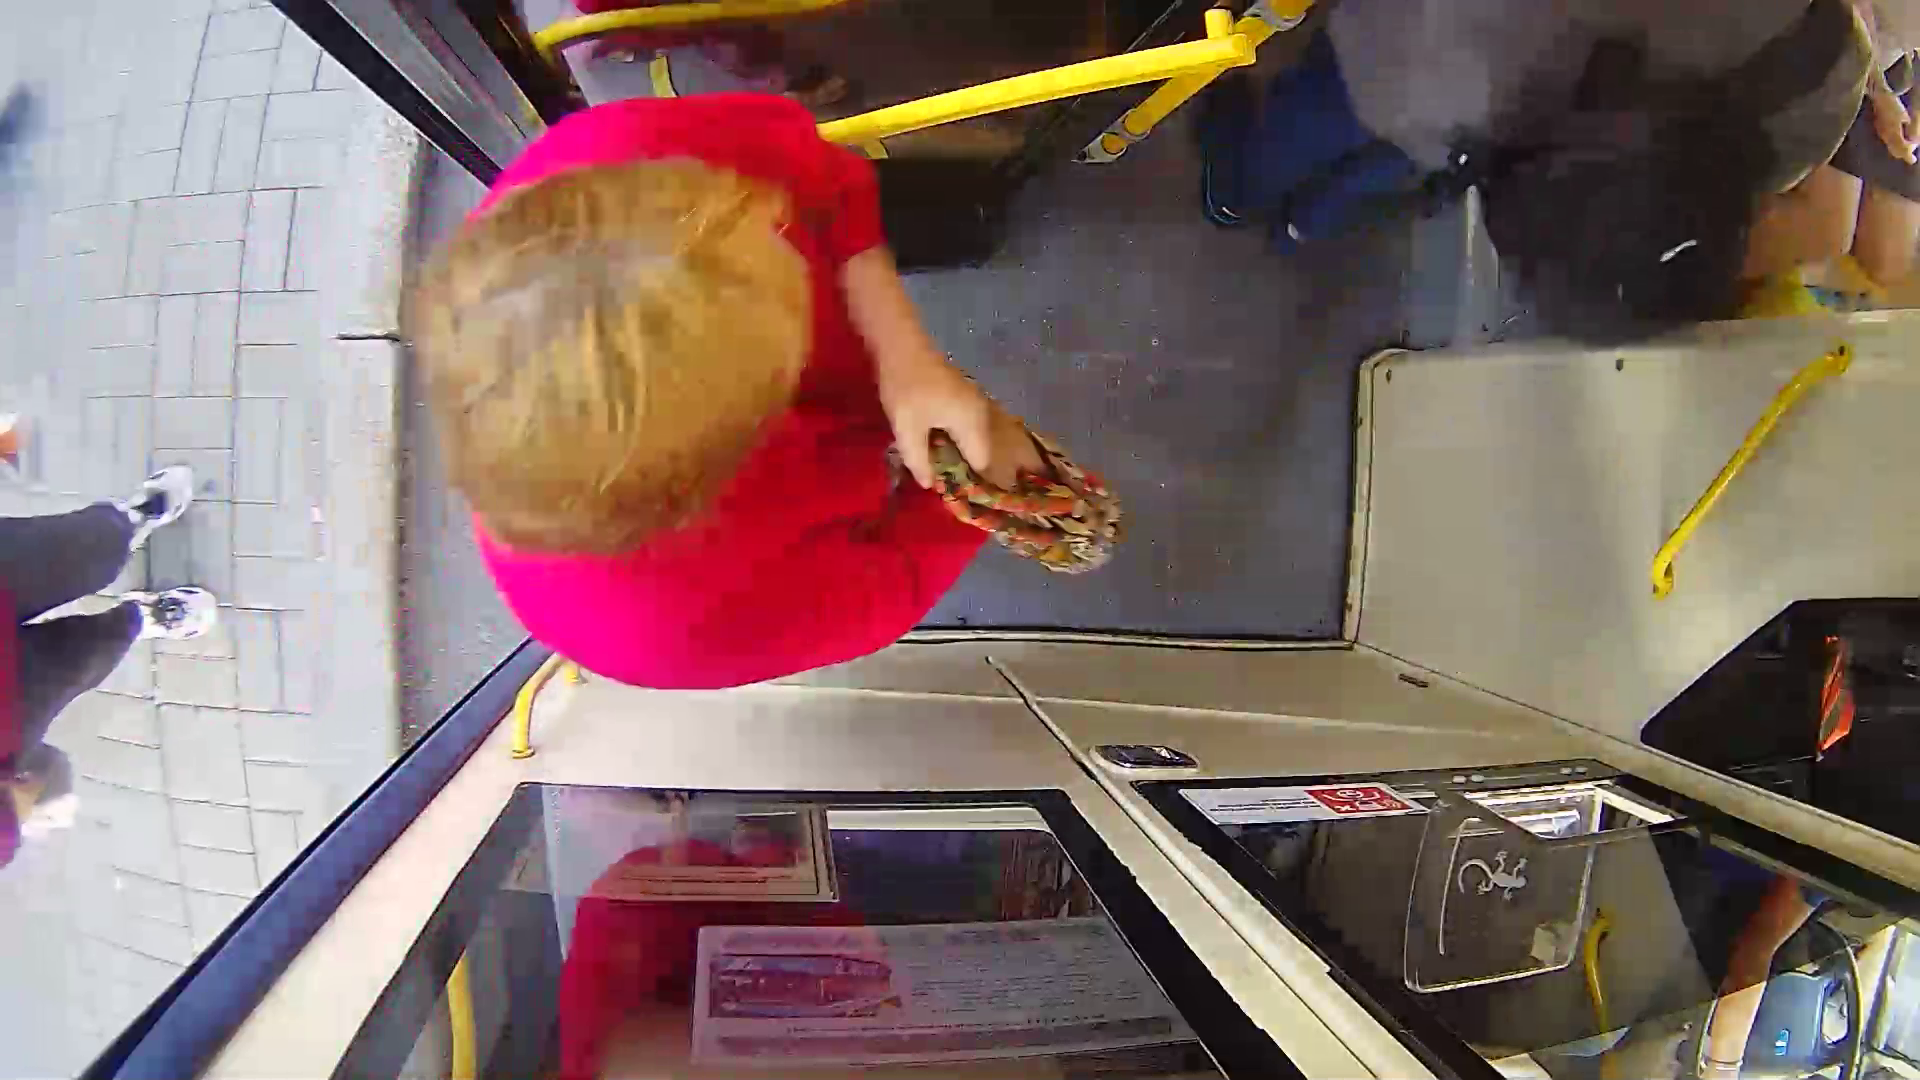person: (382, 110, 1137, 714)
